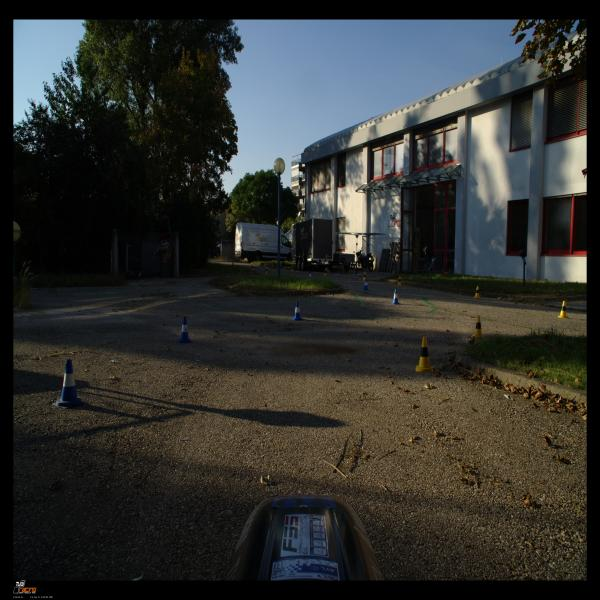blue_cone: (52, 358, 85, 410), (176, 317, 194, 344), (292, 301, 303, 321), (390, 289, 400, 305), (362, 279, 370, 290), (309, 272, 311, 278)
orange_cone: (270, 262, 274, 270), (232, 261, 234, 266)
yellow_cone: (415, 336, 434, 372), (471, 315, 485, 340), (557, 300, 569, 318), (474, 286, 481, 299), (397, 276, 403, 286), (264, 266, 268, 276), (362, 272, 366, 281), (323, 268, 327, 277), (290, 265, 294, 272), (251, 264, 254, 271)
